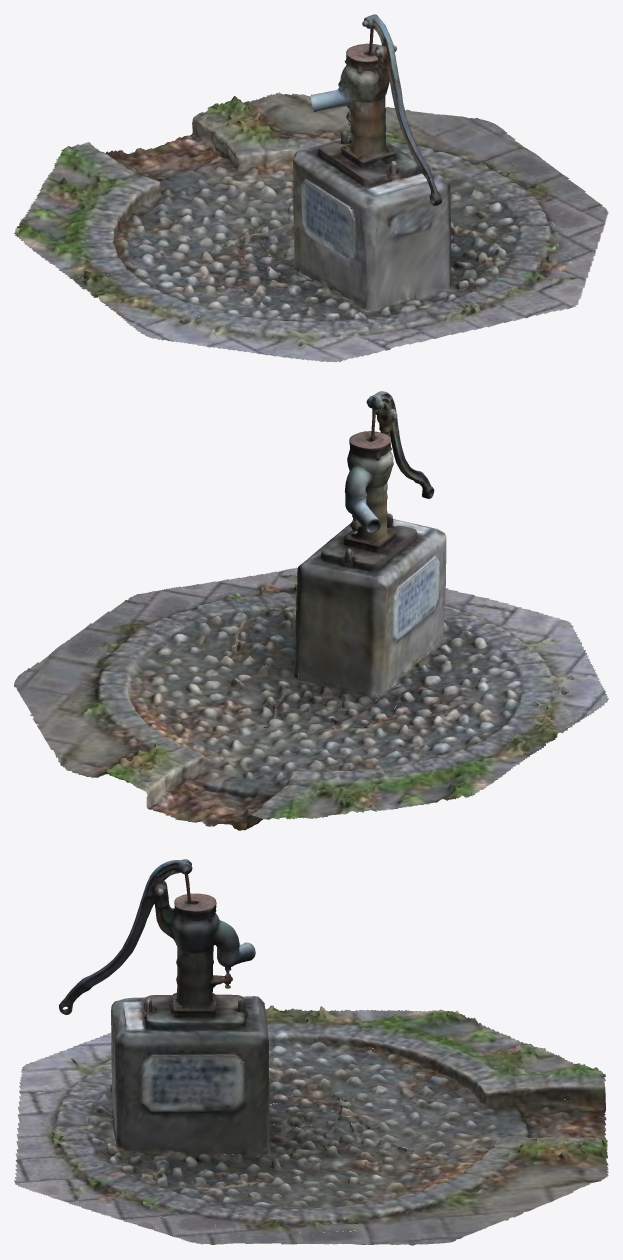
The model's file is hand_pump.glb.
3 views of the same model, one above another, from view 1: azimuth 30°, elevation 25°; view 2: azimuth 150°, elevation 25°; view 3: azimuth 270°, elevation 25° (orthographic). The views are drawn at different scales.
Parts seen in each view (by area): view 1: Object_2, Object_3; view 2: Object_2, Object_3; view 3: Object_2, Object_3.
Part boxes in pixels (x1,y1,x2,y2): Object_2: [14, 14, 608, 362]; Object_3: [16, 17, 602, 361]; Object_2: [14, 391, 608, 830]; Object_3: [21, 393, 605, 828]; Object_2: [14, 859, 608, 1245]; Object_3: [15, 860, 608, 1244].
Bounding box in the file's own units: 1.78 × 1 × 1.88.
1 material, 1 textured.
